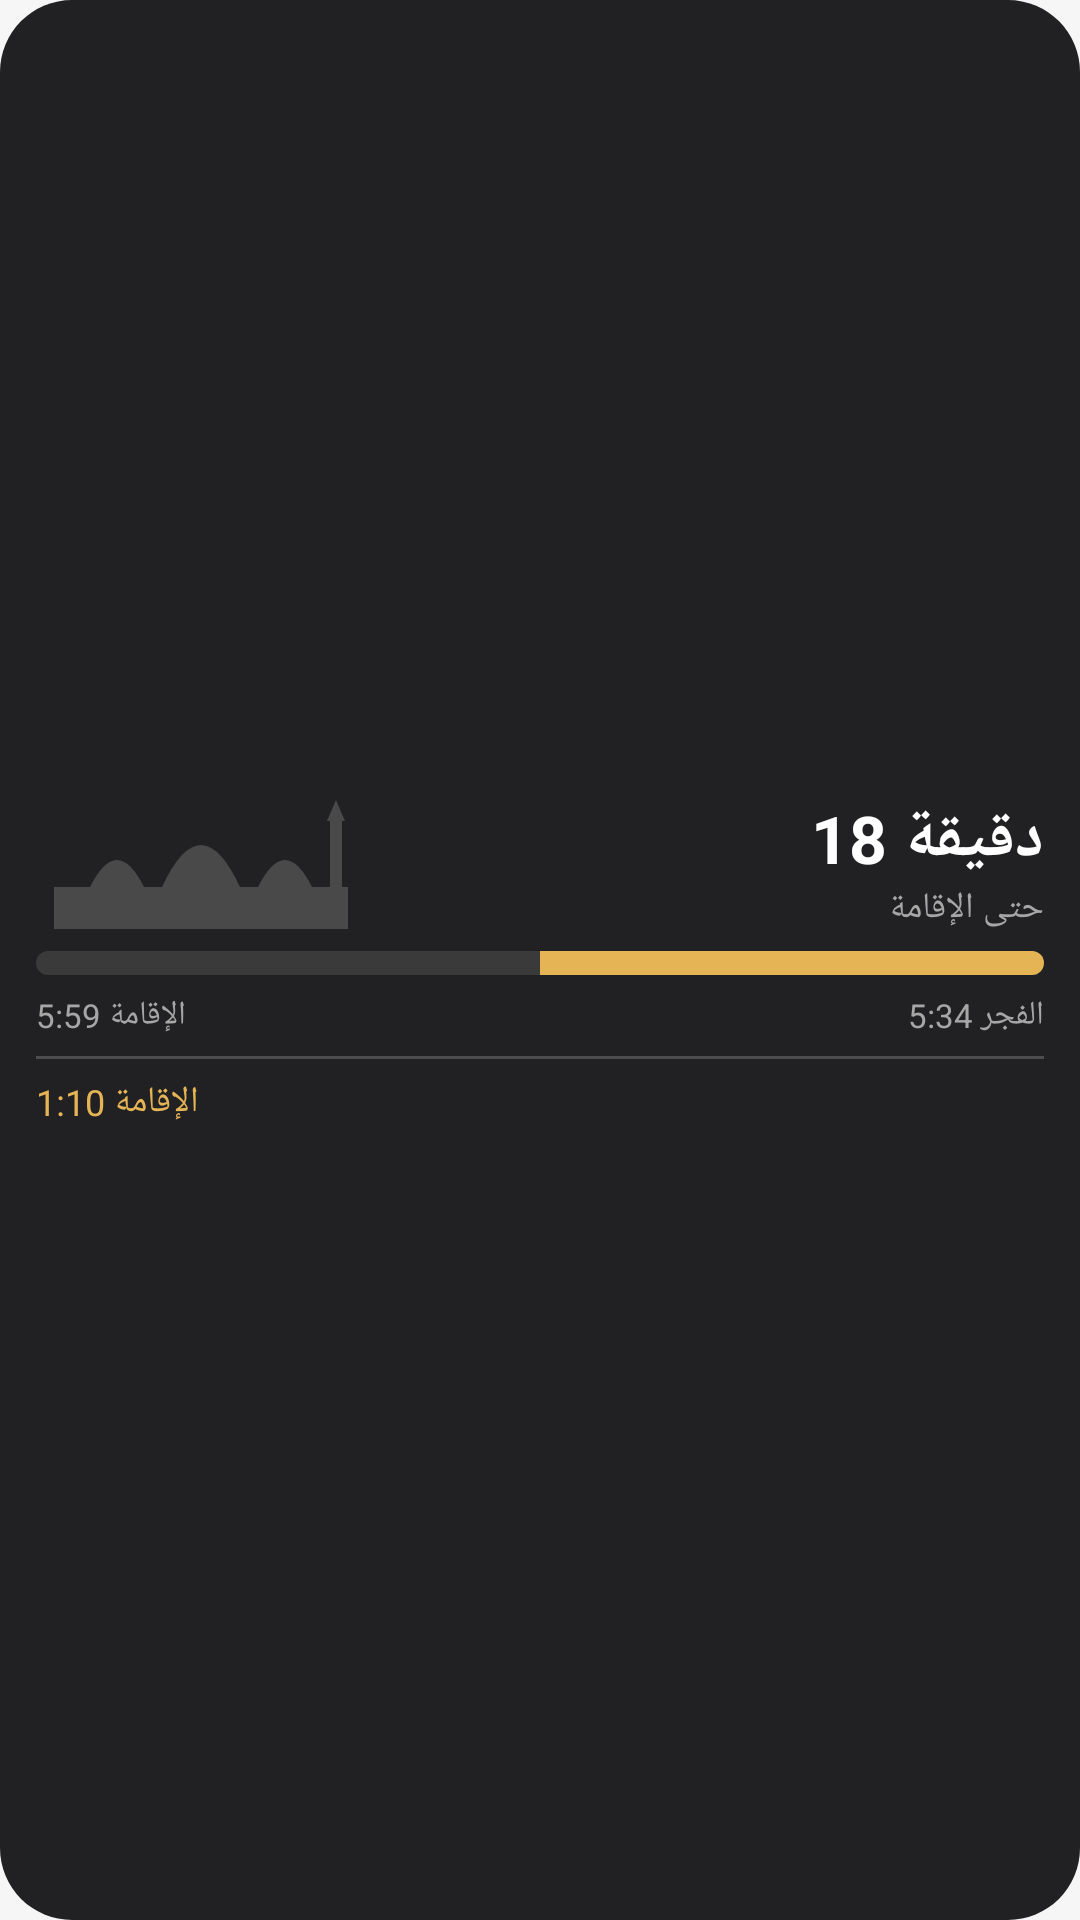

Icons on this 1080px×1920px Android screen, each with its box as bbox=(x1, y1, x2, y2):
widget mosque: bbox=(54, 802, 348, 929)
